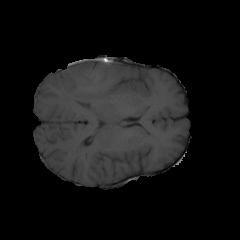glioma: (66, 58, 120, 105)
